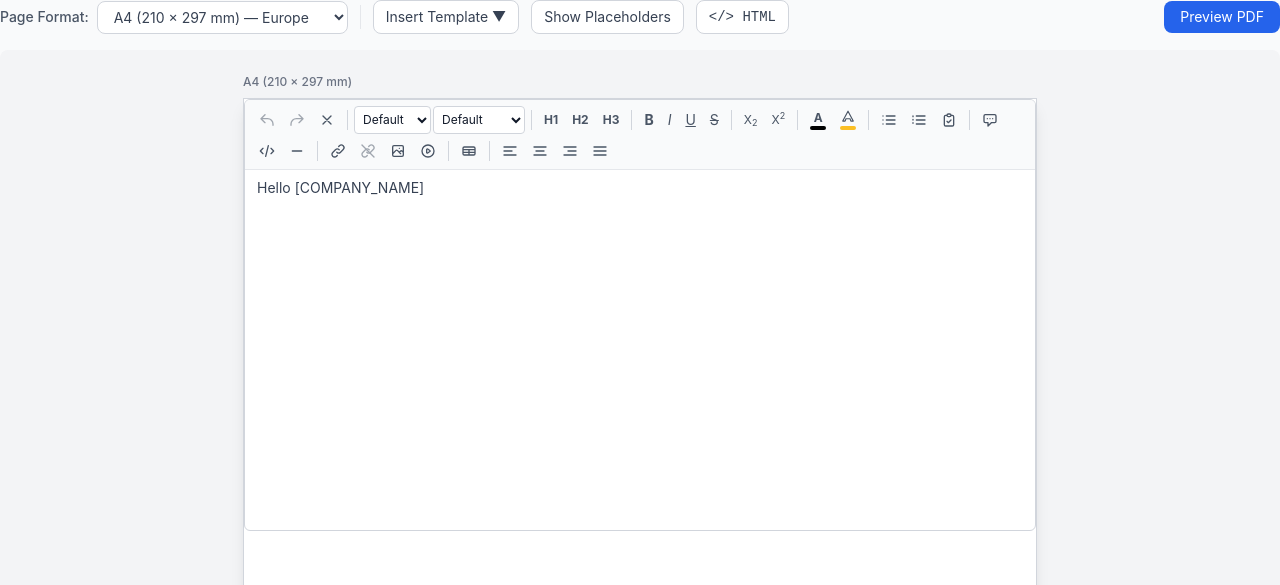
InvoiceTemplateEditor › placeholder sidebar › expands a collapsed category when its header is clicked
What coordinates should you click on to do the following:
click the button "Show Placeholders"
I would click on:
 (608, 17)
Its box is [531, 0, 684, 34].
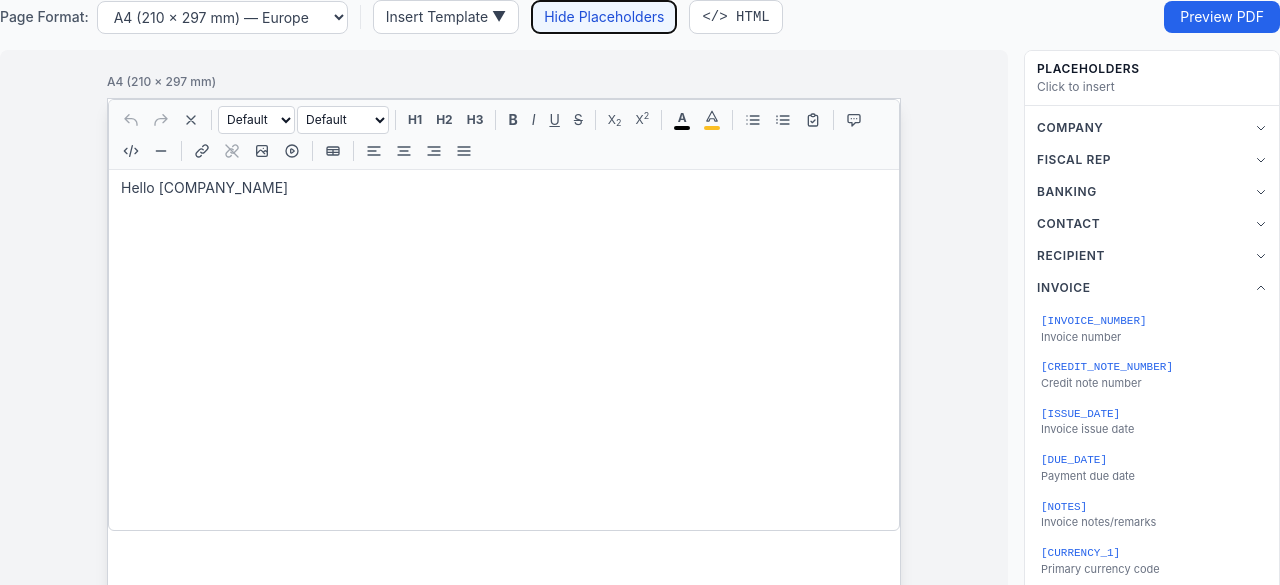
// Click the Company category header to expand it (CSS uppercase doesn't affect text content)
What coordinates should you click on to do the following:
click the button "Company"
I would click on:
 (1152, 128)
Its box is [1033, 114, 1271, 142].
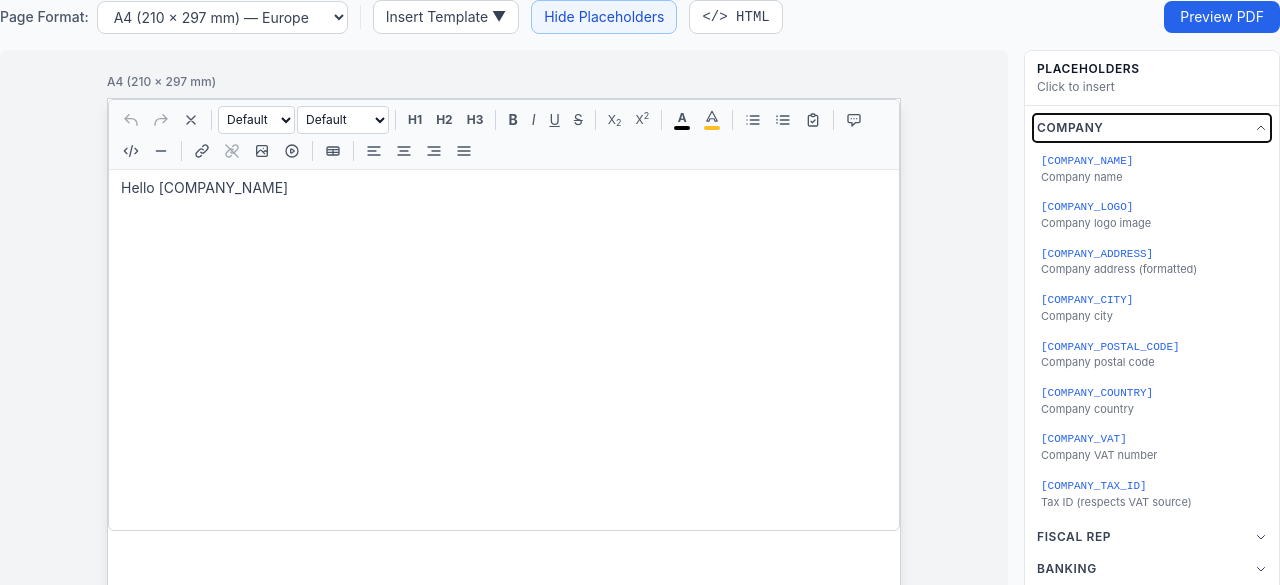
Result: the button "[COMPANY_NAME] Company name" is shown at [1033, 146, 1271, 190]
